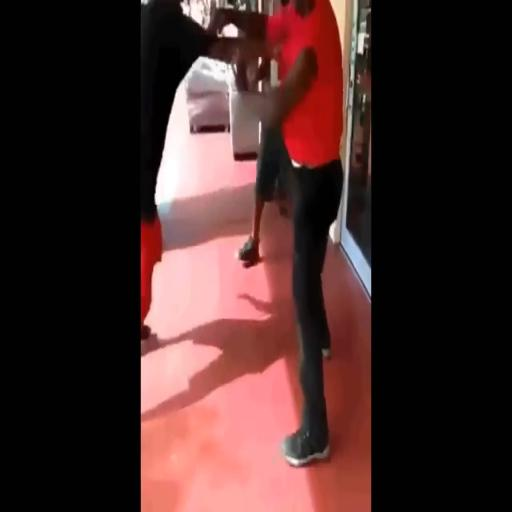violencia: (141, 0, 372, 471)
